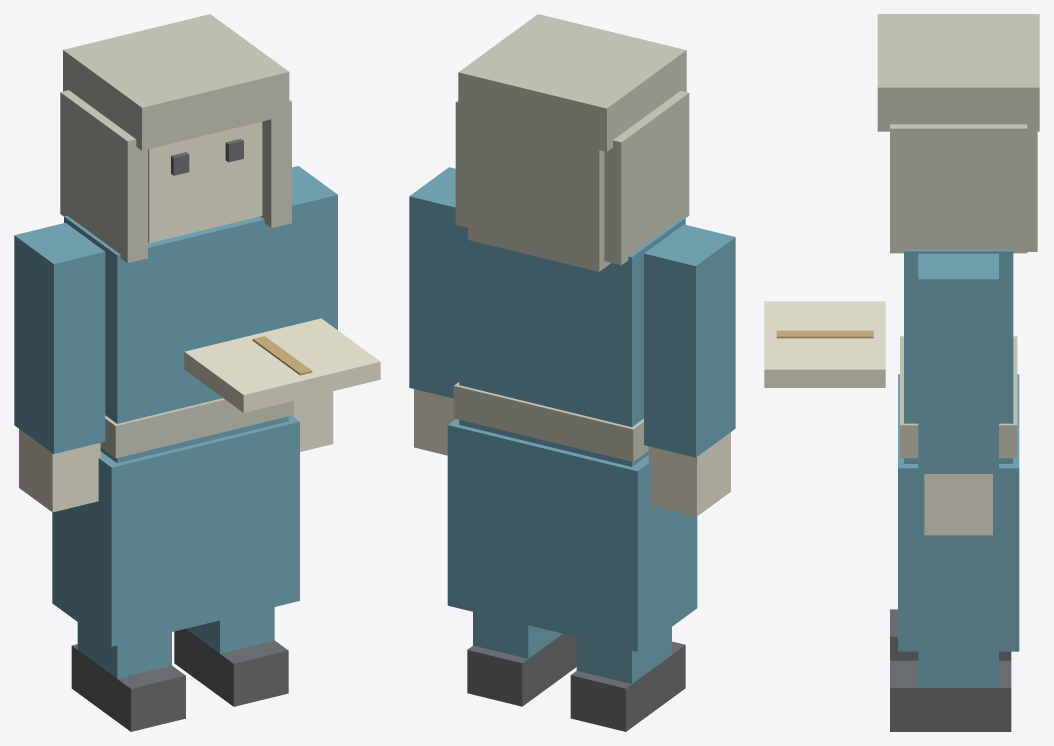
Rendered from tidal_navigator.glb.
3 views of the same model, side by side, from view 1: azimuth 30°, elevation 25°; view 2: azimuth 150°, elevation 25°; view 3: azimuth 270°, elevation 25° (orthographic). The views are drawn at different scales.
Parts seen in each view (by area): view 1: tidal-observatory-navigator; view 2: tidal-observatory-navigator; view 3: tidal-observatory-navigator.
Boxes of the visible parts, x1=… form: tidal-observatory-navigator: x1=14, y1=14, x2=380, y2=731; tidal-observatory-navigator: x1=409, y1=14, x2=735, y2=731; tidal-observatory-navigator: x1=764, y1=14, x2=1039, y2=731.
Bounding box in the file's own units: 0.83 × 1.75 × 0.68.
